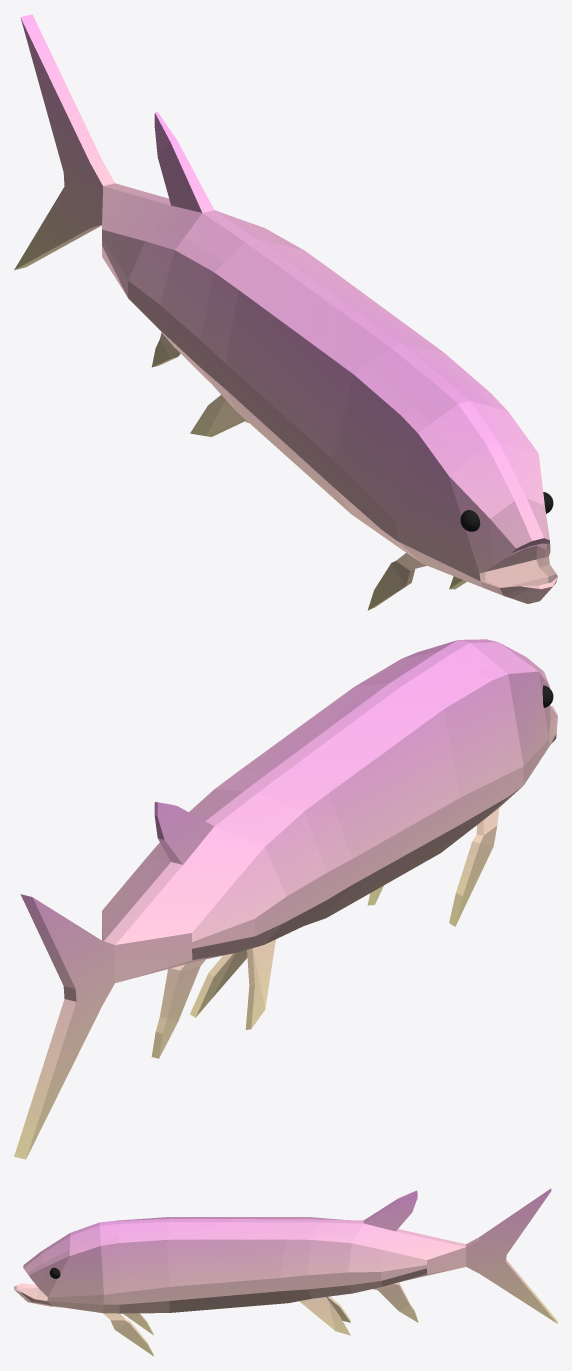
The model's file is Dino_Fih2.fbx.
3 renders of one model, top to bottom at view 1: azimuth 30°, elevation 25°; view 2: azimuth 150°, elevation 25°; view 3: azimuth 270°, elevation 25°, orthographic. The views are drawn at different scales.
Visible parts, largest first — view 1: fih; view 2: fih; view 3: fih.
Part boxes in pixels (bbox=[...]): fih: bbox=[14, 14, 557, 610]; fih: bbox=[14, 639, 557, 1159]; fih: bbox=[14, 1188, 557, 1356].
Size of the model in its own units: 0.1299 by 0.2961 by 0.9355.
